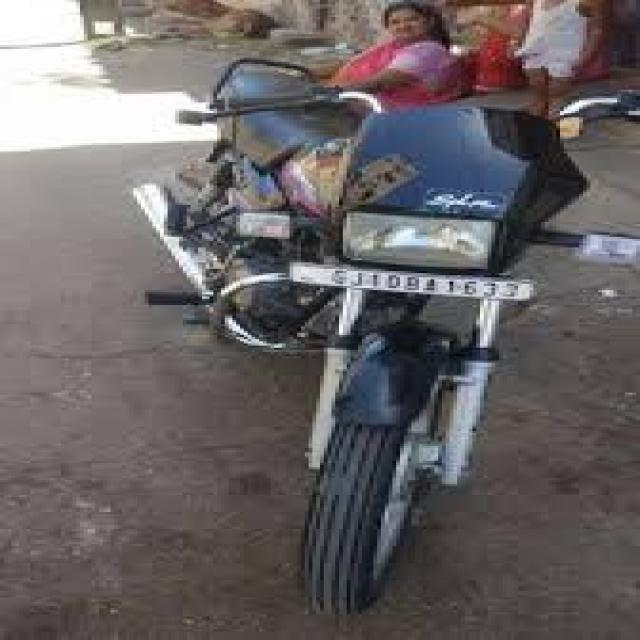bike: (122, 64, 579, 608)
